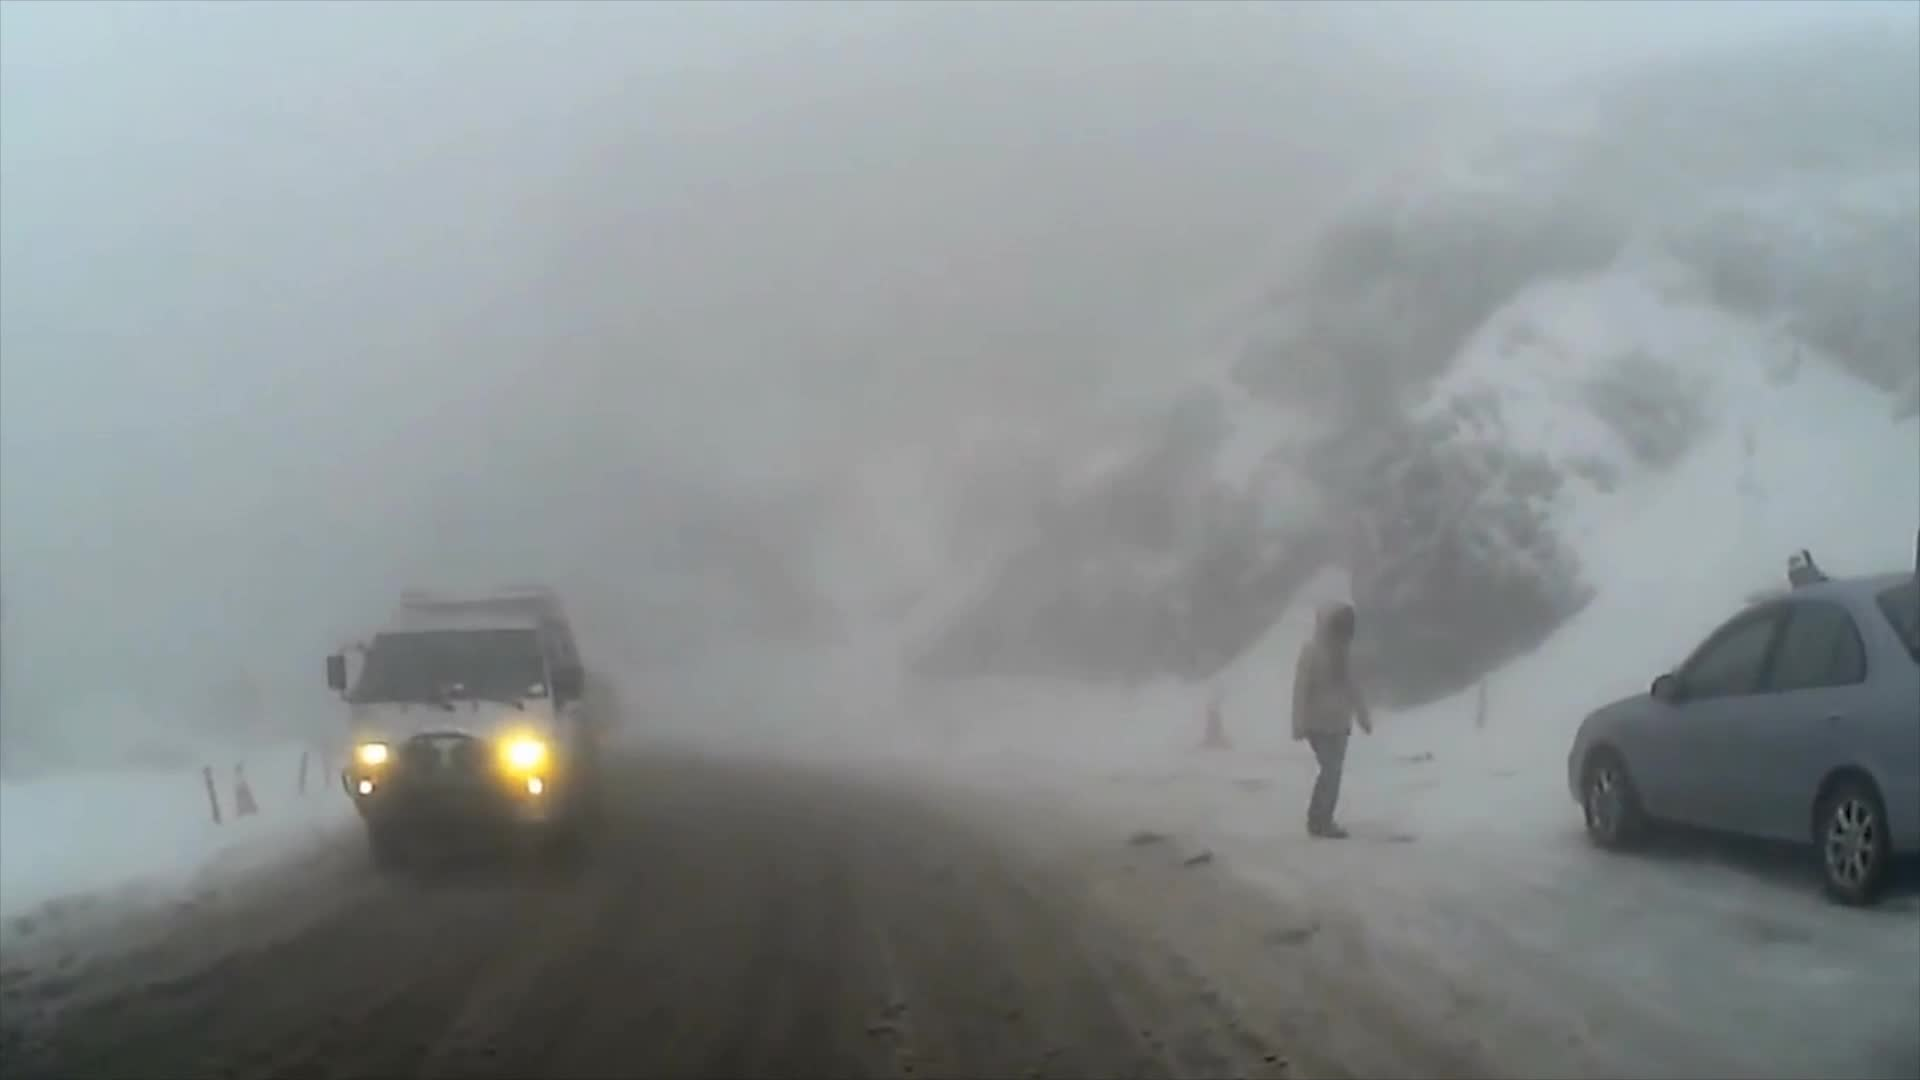pedestrian: (1285, 587, 1377, 840)
vehicle: (1564, 571, 1920, 907), (323, 581, 598, 878)
